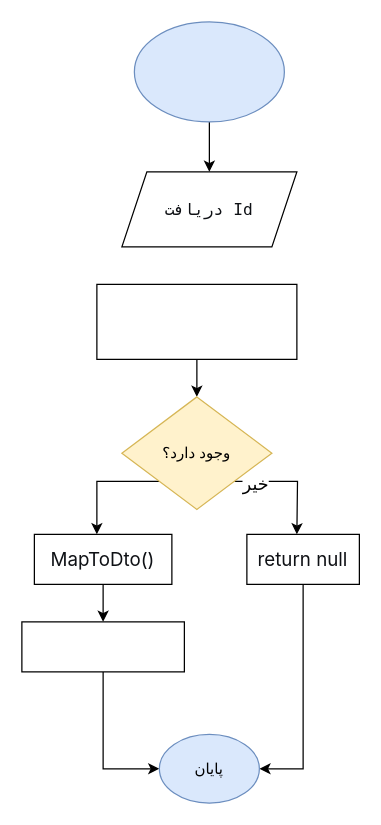
Some shapes in this 381 by 825 pixel diagram are drawn without their labels. Here are the shapes that lost their labels. From the top down, the centre of each, then its label:
[208,71]: شروع GetDeliveryDtoByIdAsync
[196,321]: GetByIdAsync(id) (جستجوی سوابق ارسال)
[102,646]: return DeliveryDto
